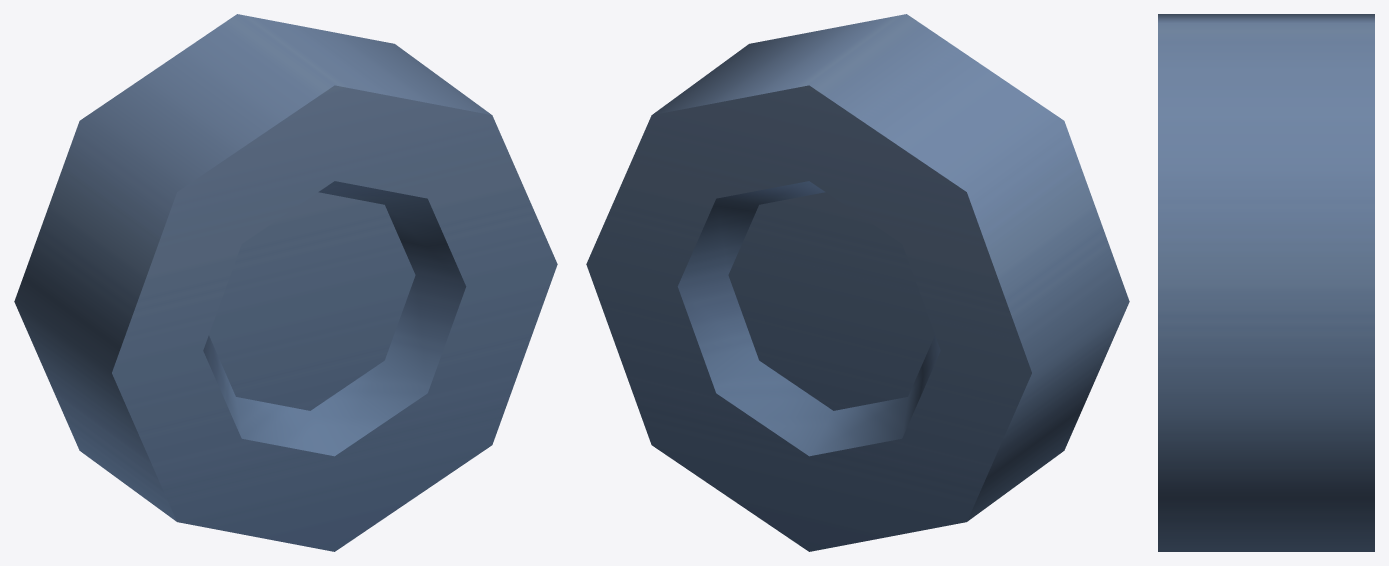
File: item-coin-silver.fbx
3 renders of one model, left to right at view 1: azimuth 30°, elevation 25°; view 2: azimuth 150°, elevation 25°; view 3: azimuth 270°, elevation 25°, orthographic. The views are drawn at different scales.
Visible parts, largest first — view 1: item-coin-silver; view 2: item-coin-silver; view 3: item-coin-silver.
Boxes of the visible parts, x1,y1,x2,y2 form: item-coin-silver: [14, 14, 557, 551]; item-coin-silver: [586, 14, 1129, 551]; item-coin-silver: [1158, 14, 1374, 551].
Size of the model in its own units: 26.4 by 26.4 by 10.
